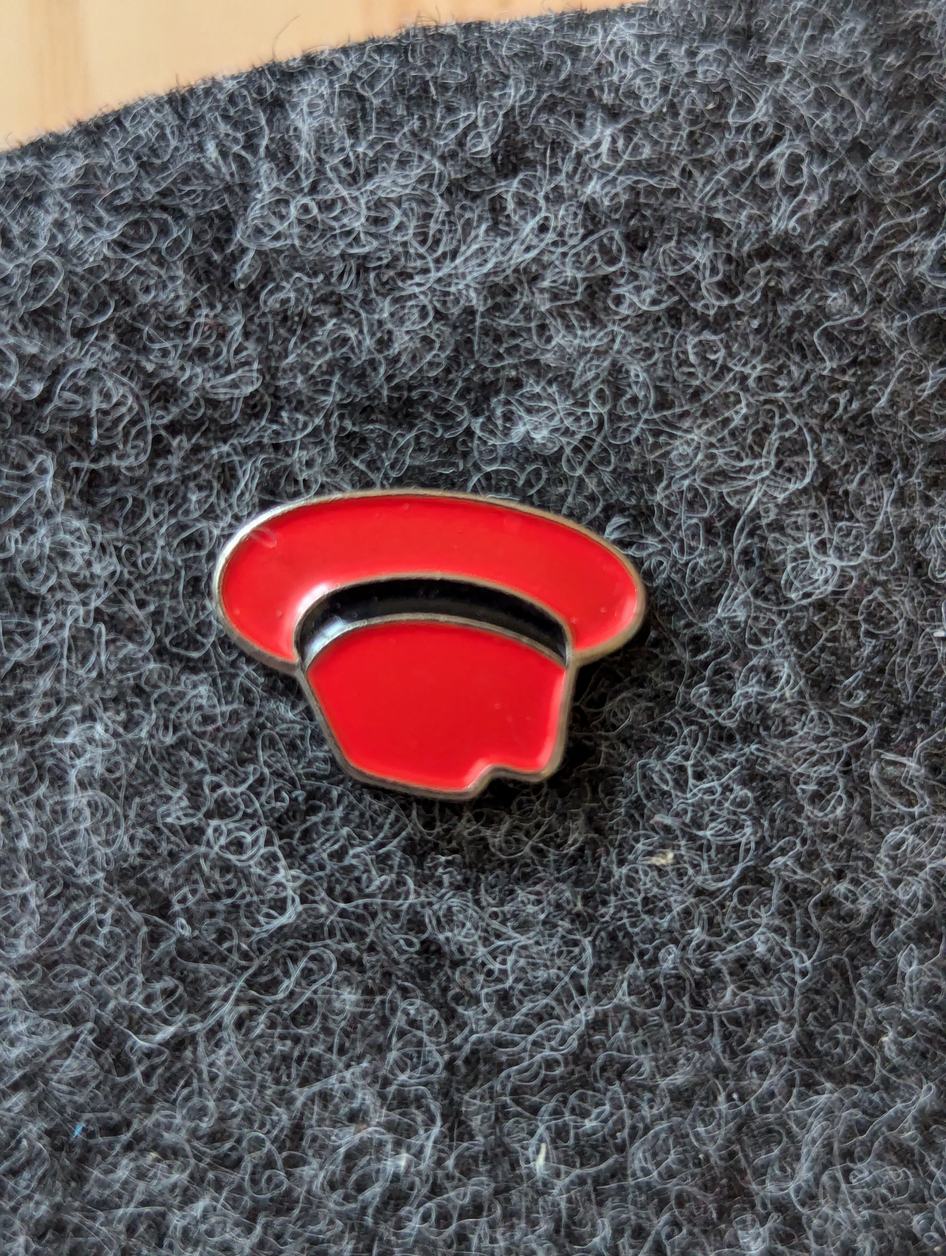Red-Hat: (151, 418, 793, 929)
